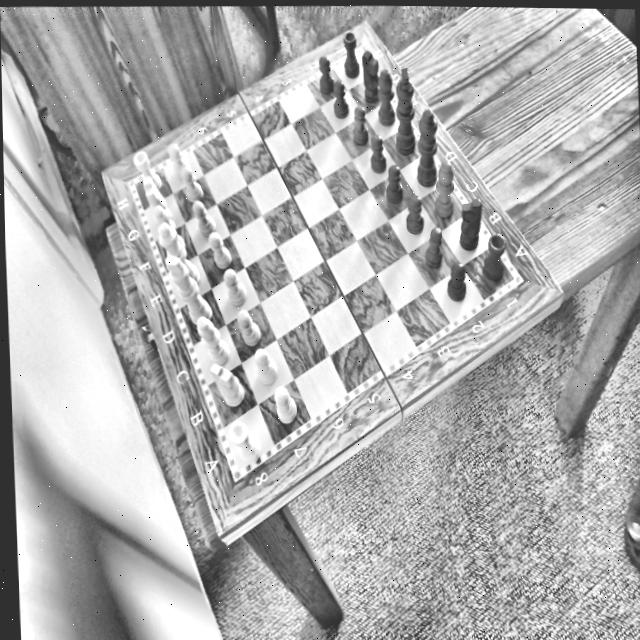black-bishop: (432, 159, 455, 219), (377, 65, 396, 125)
black-king: (393, 66, 415, 153)
black-knight: (458, 192, 482, 252), (358, 48, 379, 104)
black-pawn: (423, 224, 446, 266), (445, 260, 467, 300), (331, 78, 350, 120), (403, 196, 424, 233), (351, 102, 369, 145), (383, 163, 402, 203), (369, 130, 385, 172), (316, 53, 332, 94)
black-queen: (413, 106, 437, 184)
black-rook: (480, 226, 507, 282), (342, 30, 359, 77)
white-bishop: (191, 316, 230, 366), (147, 204, 177, 238)
white-king: (161, 255, 217, 327)
white-knight: (205, 360, 248, 412), (138, 174, 170, 213)
white-pawn: (220, 268, 250, 310), (233, 308, 265, 347), (249, 346, 279, 385), (271, 385, 299, 425), (205, 230, 233, 270), (190, 200, 220, 236), (165, 138, 189, 176), (179, 167, 205, 199)
white-queen: (151, 218, 200, 290)
white-rook: (227, 417, 259, 468), (132, 148, 162, 191)
